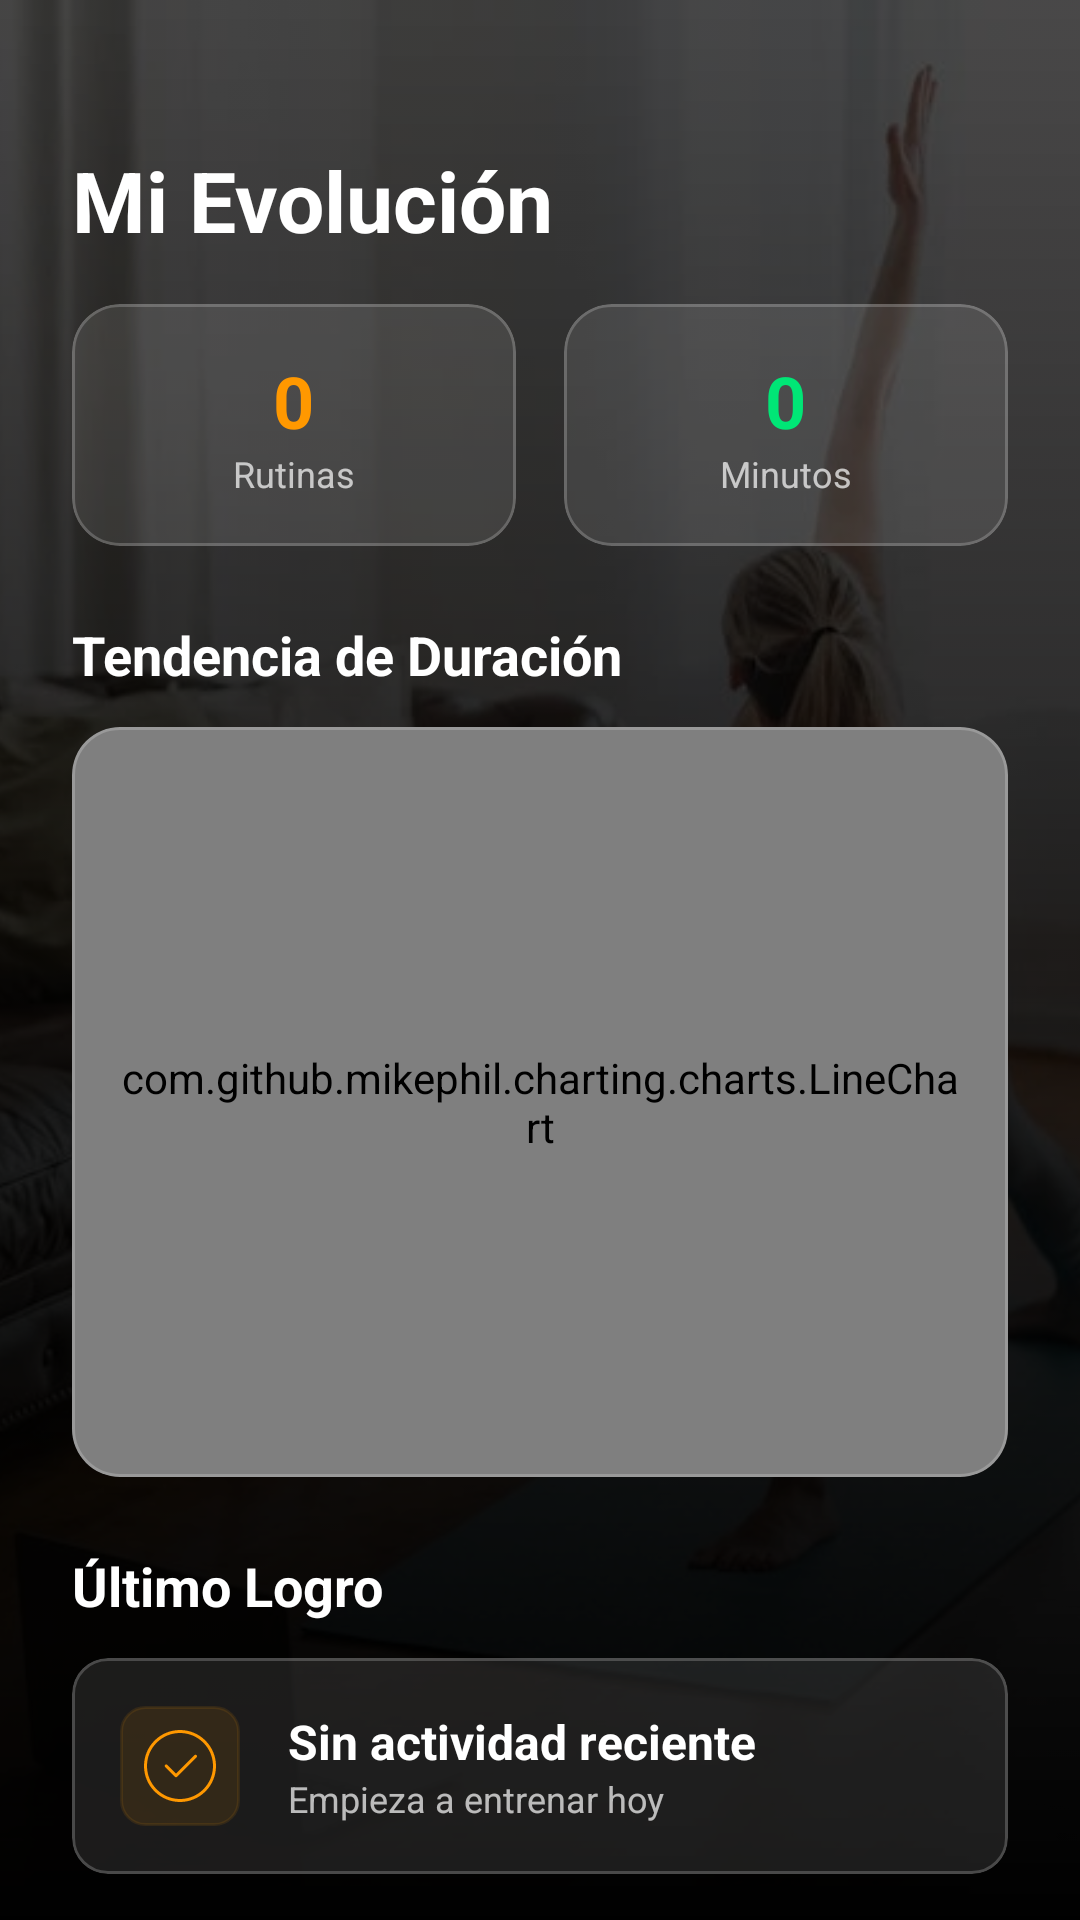

Icon bounding boxes for this 1080 x 1920 phone screenshot, format [x1=x1, y1=y1, x2=x2, y2=y2]:
check circle: [x1=120, y1=1706, x2=240, y2=1826]
